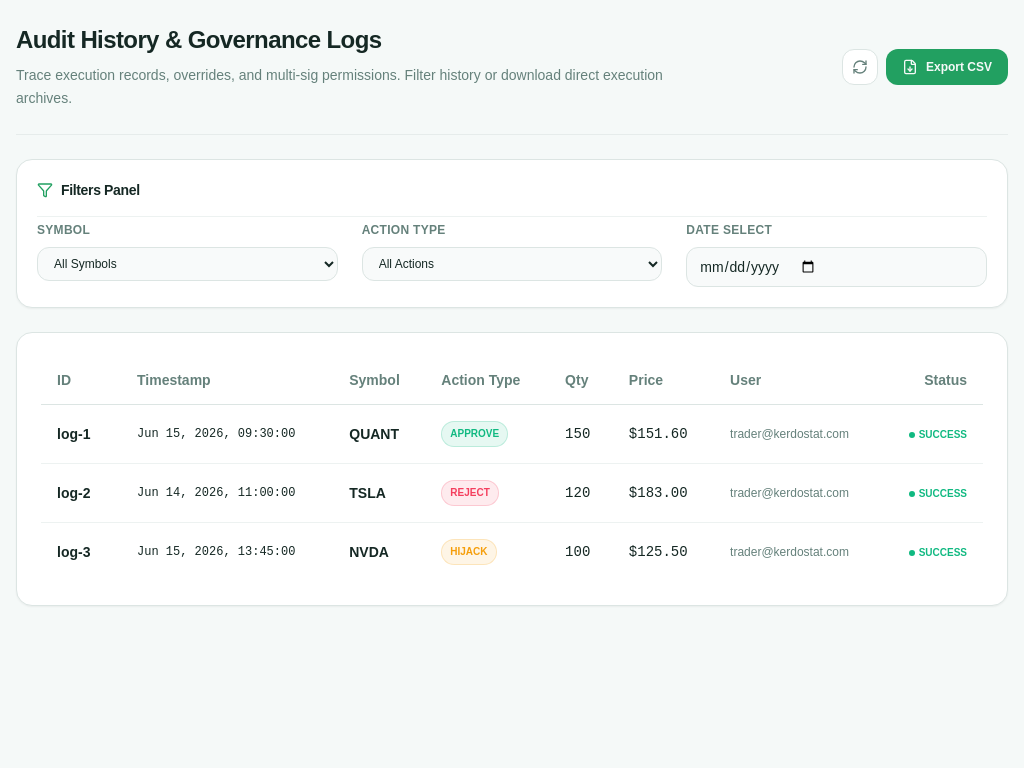
Test: AuditLogPage Component › filters logs by symbol correctly
expect the number of rows with test id "log-row" is 3: met, box [41,404,983,464]; [41,464,983,522]; [41,522,983,581]
Select "QUANT" in the dropdown with test id "filter-symbol": point(187, 264) [37,246,338,280]
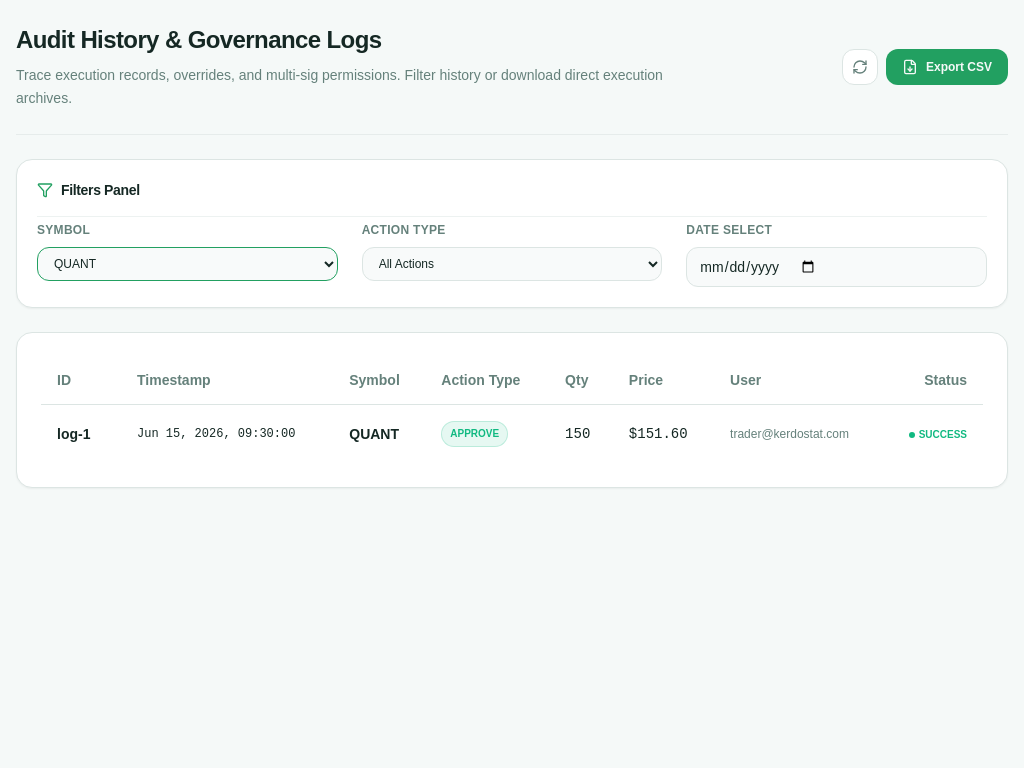
expect the number of rows with test id "log-row" is 1: met, box [41,404,983,463]
expect the text "QUANT" is shown 2 times: met
